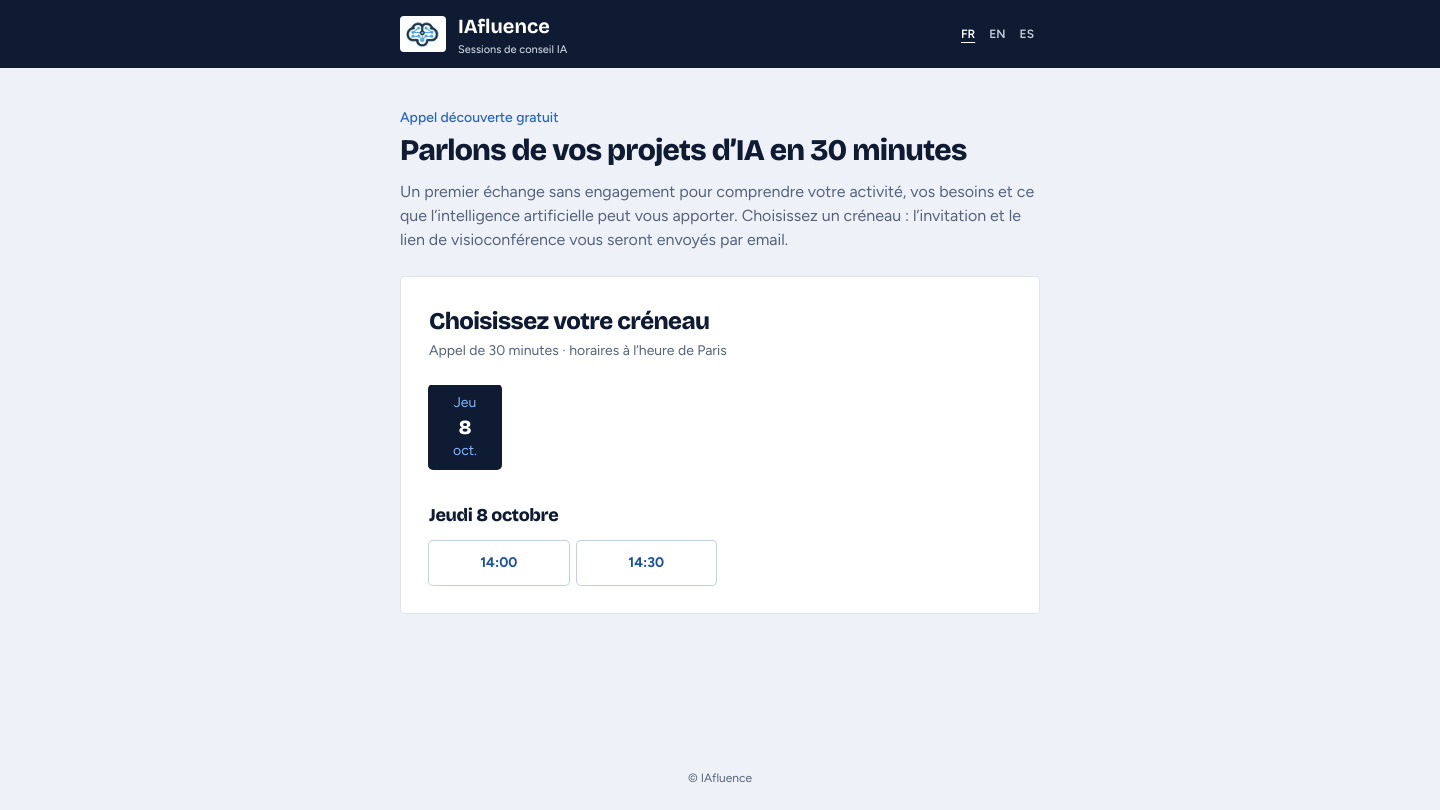
Discovery › can change the slot before booking
Click the button "14:30" at (646, 563), box [576,541,716,585]
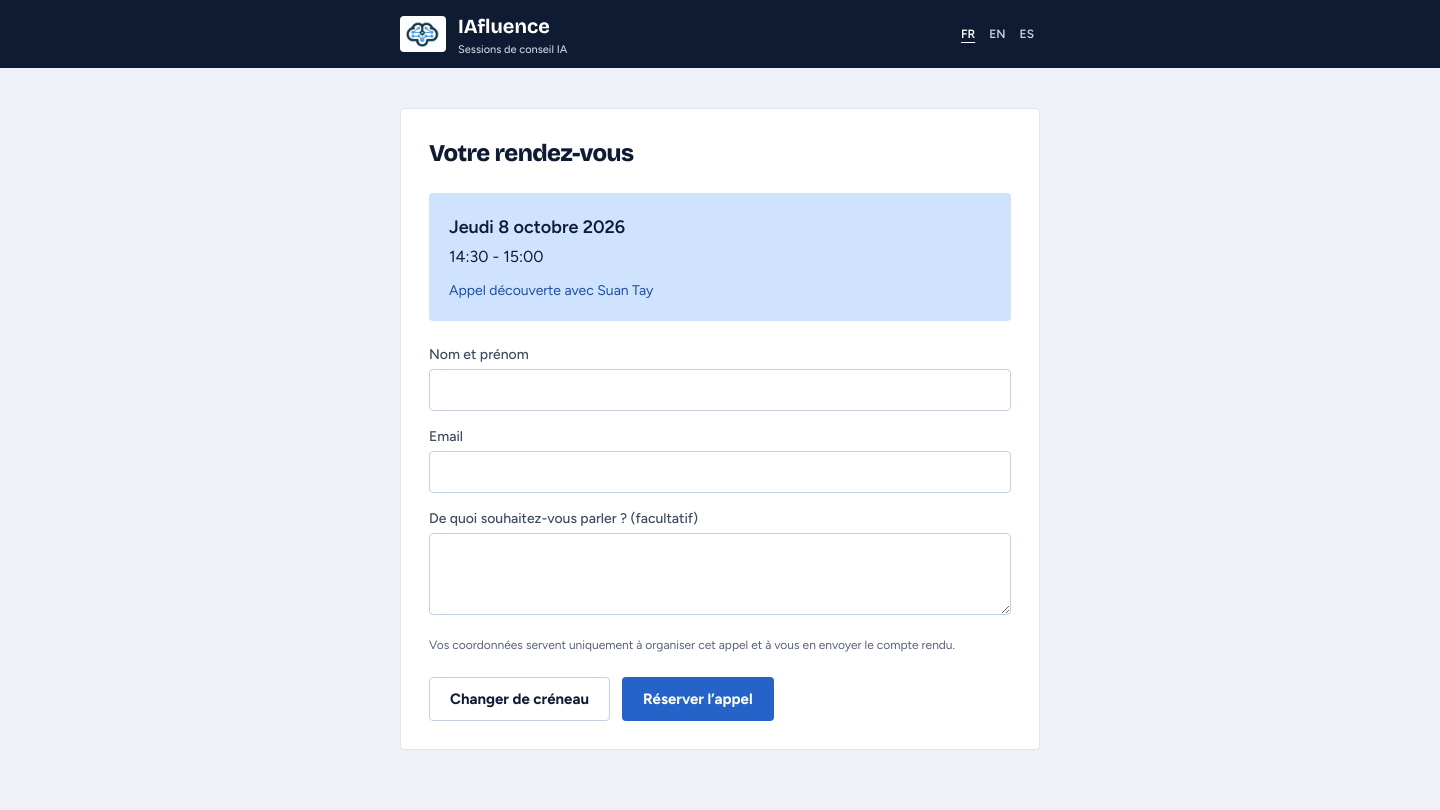
Click the button "Changer de créneau" at (519, 699), box [429,677,610,721]
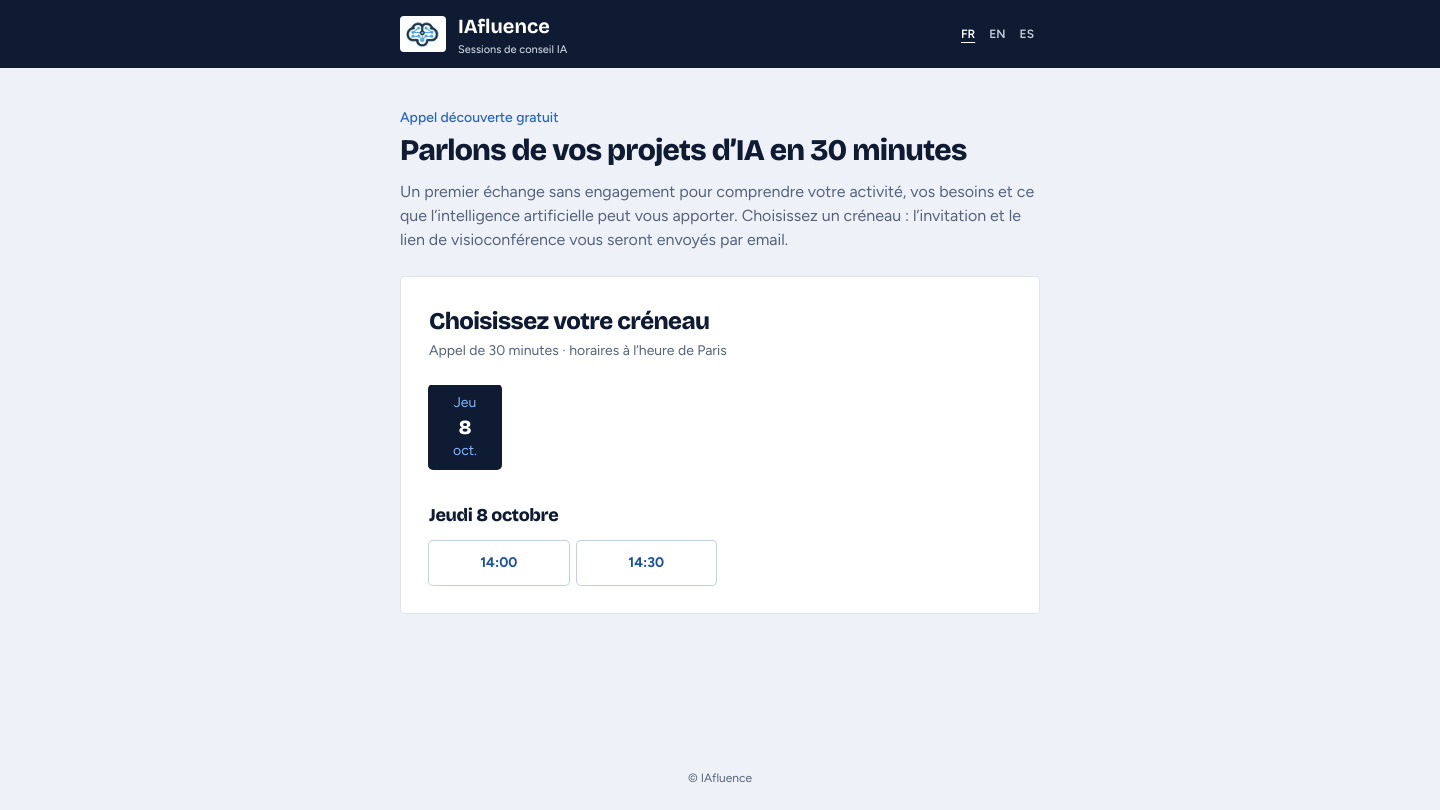
Check: the button "14:00" is shown, box [429,541,568,585]
